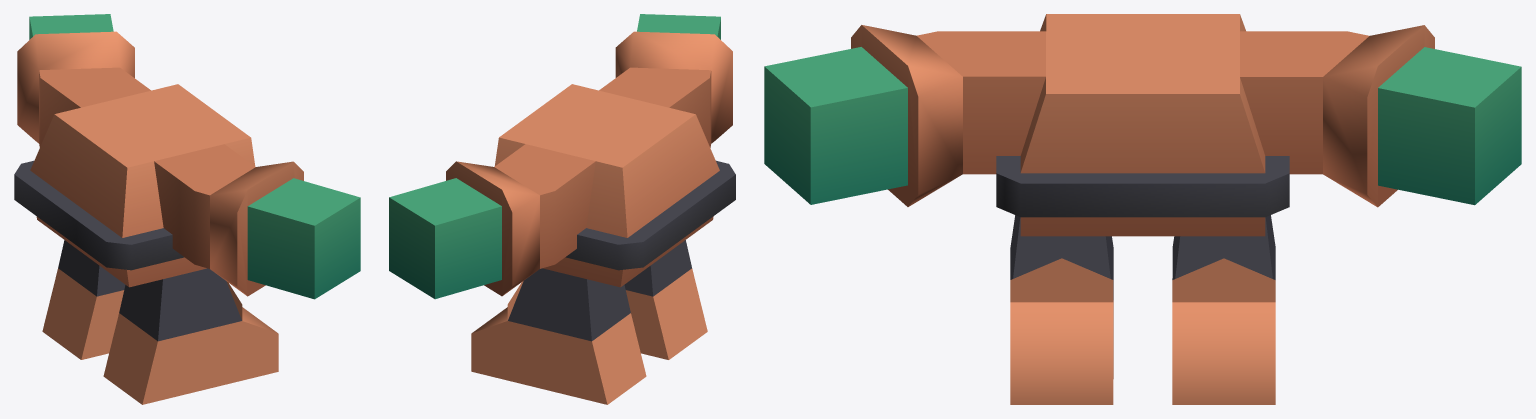
The model's file is body-mesh.004_lev5.glb.
3 renders of one model, left to right at view 1: azimuth 30°, elevation 25°; view 2: azimuth 150°, elevation 25°; view 3: azimuth 270°, elevation 25°, orthographic. The views are drawn at different scales.
Parts seen in each view (by area): view 1: body-mesh.004_lev5; view 2: body-mesh.004_lev5; view 3: body-mesh.004_lev5.
Boxes of the visible parts, x1=… form: body-mesh.004_lev5: x1=14, y1=14, x2=360, y2=404; body-mesh.004_lev5: x1=389, y1=14, x2=735, y2=404; body-mesh.004_lev5: x1=764, y1=14, x2=1521, y2=404.
Size of the model in its own units: 1.11 by 1.47 by 3.12.
Materials: 1 (1 with a texture image).
